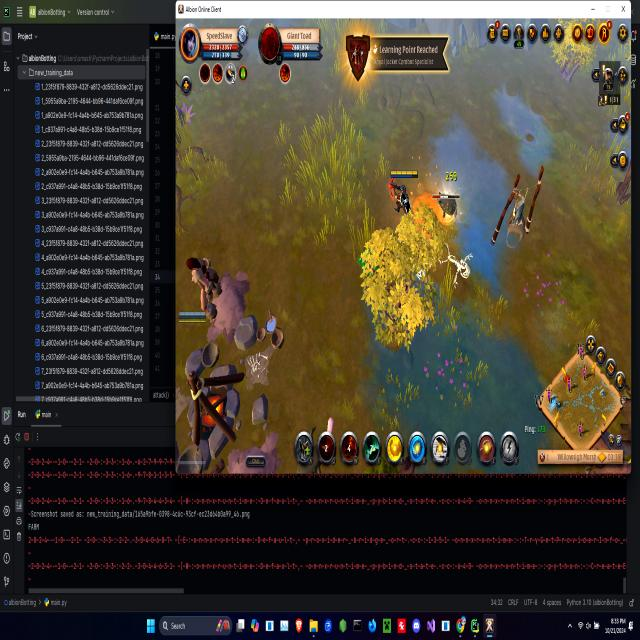ore: (182, 244, 227, 331), (426, 182, 464, 225)
red: (386, 164, 422, 218), (177, 306, 209, 328)
